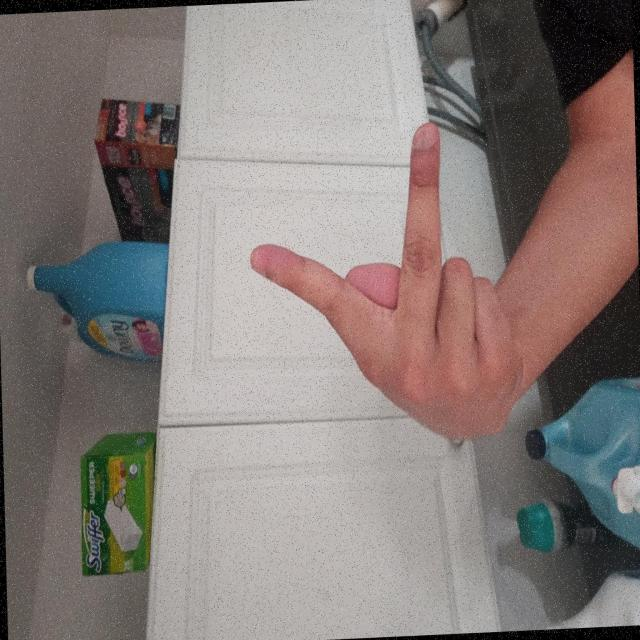K: (142, 329, 394, 640)
